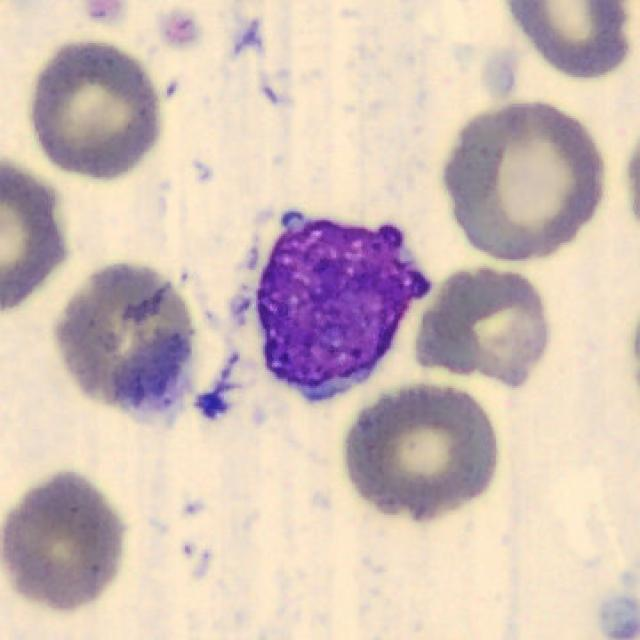Linfocito: (256, 215, 430, 404)
